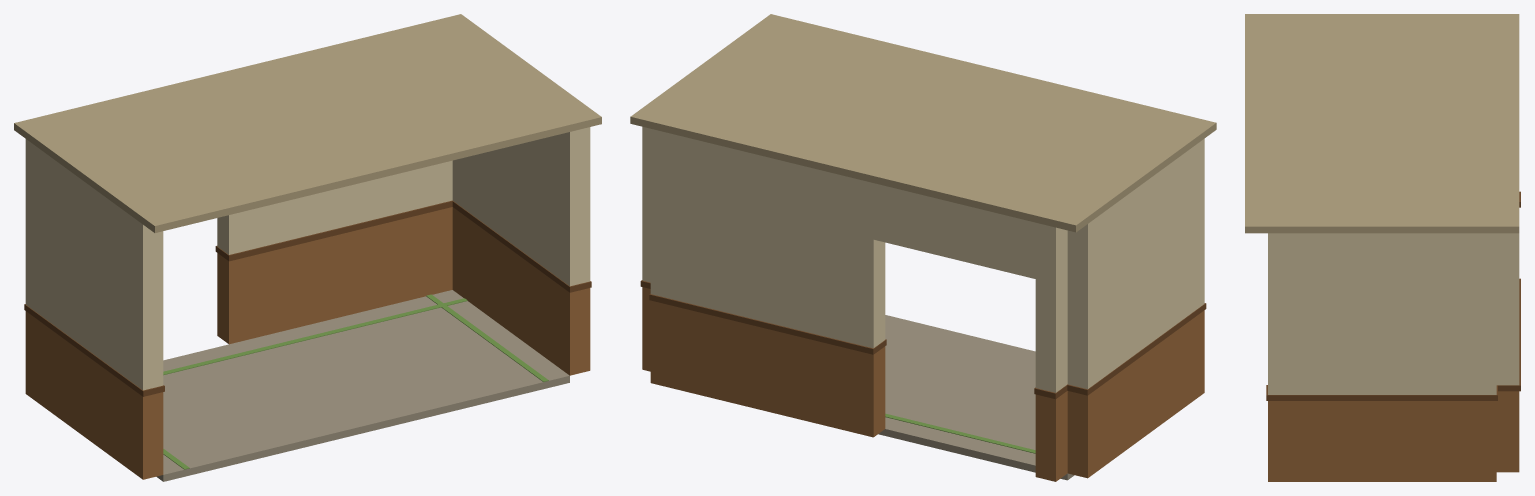
File: room_shared_main_end.glb
3 views of the same model, side by side, from view 1: azimuth 30°, elevation 25°; view 2: azimuth 150°, elevation 25°; view 3: azimuth 270°, elevation 25° (orthographic). The views are drawn at different scales.
Parts seen in each view (by area): view 1: room_shared_main_end; view 2: room_shared_main_end; view 3: room_shared_main_end.
Boxes of the visible parts, box(x1,y1,x2,y2) form: room_shared_main_end: box(14, 14, 601, 481); room_shared_main_end: box(630, 14, 1216, 481); room_shared_main_end: box(1245, 14, 1520, 481).
Bounding box in the file's own units: 6.62 × 3.8 × 3.62.
1 material, 1 textured.
